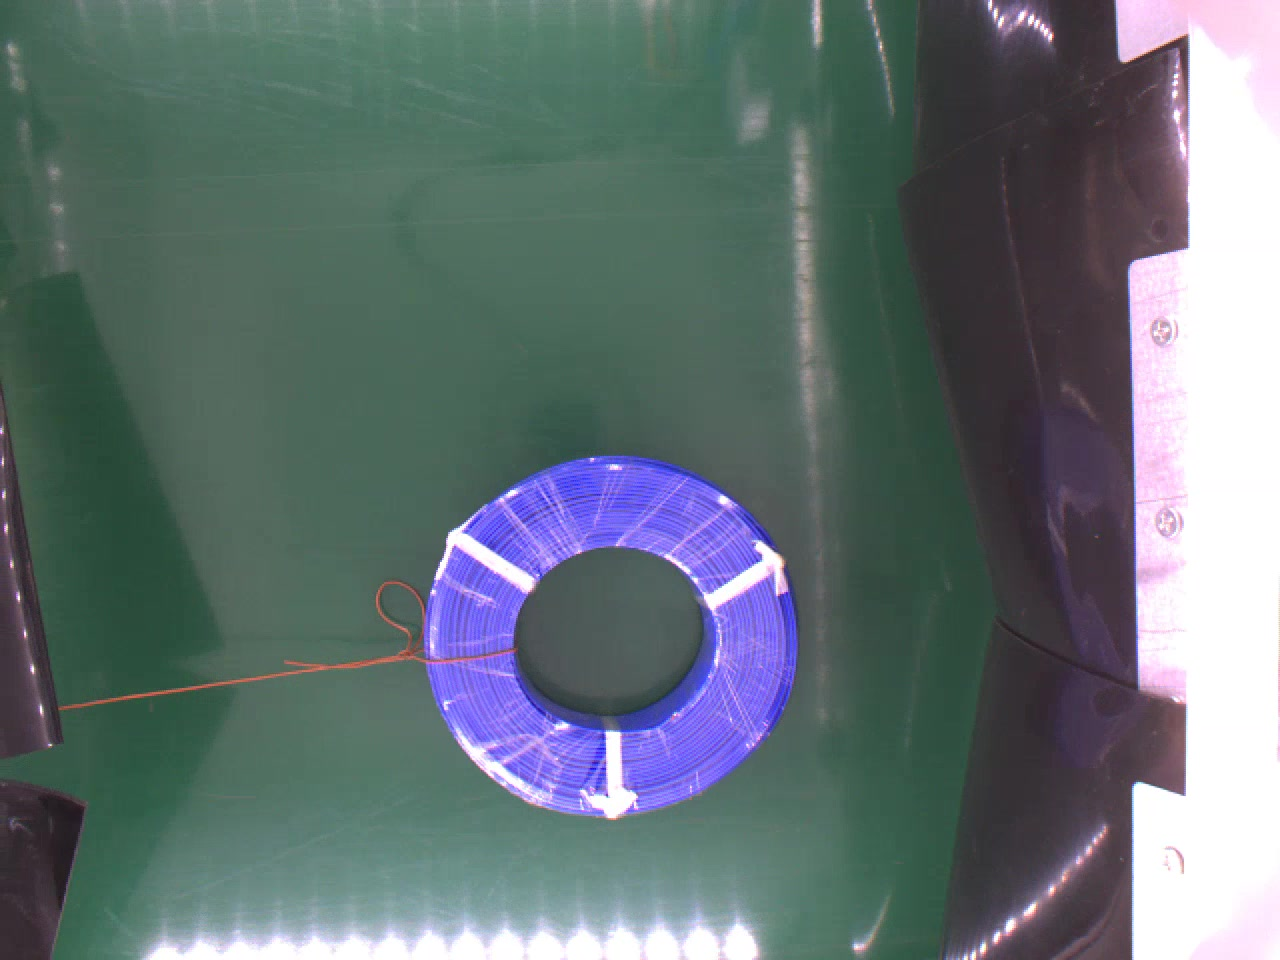blue: (404, 450, 798, 822)
